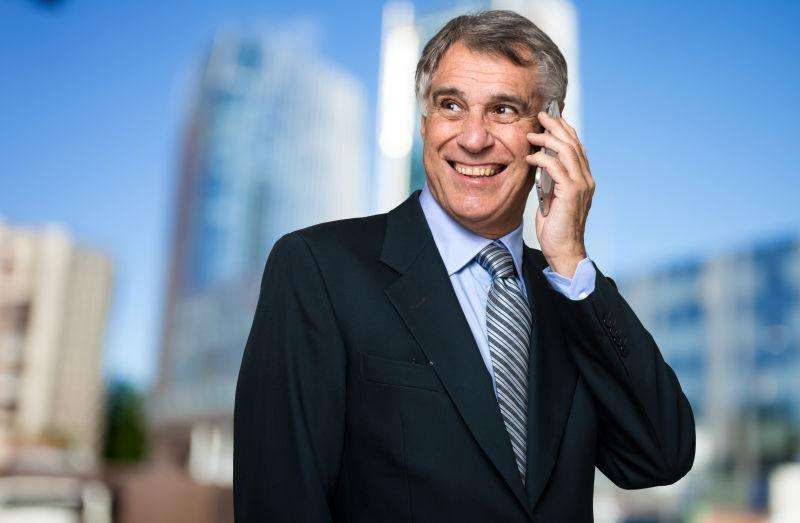calling: (525, 95, 598, 254)
